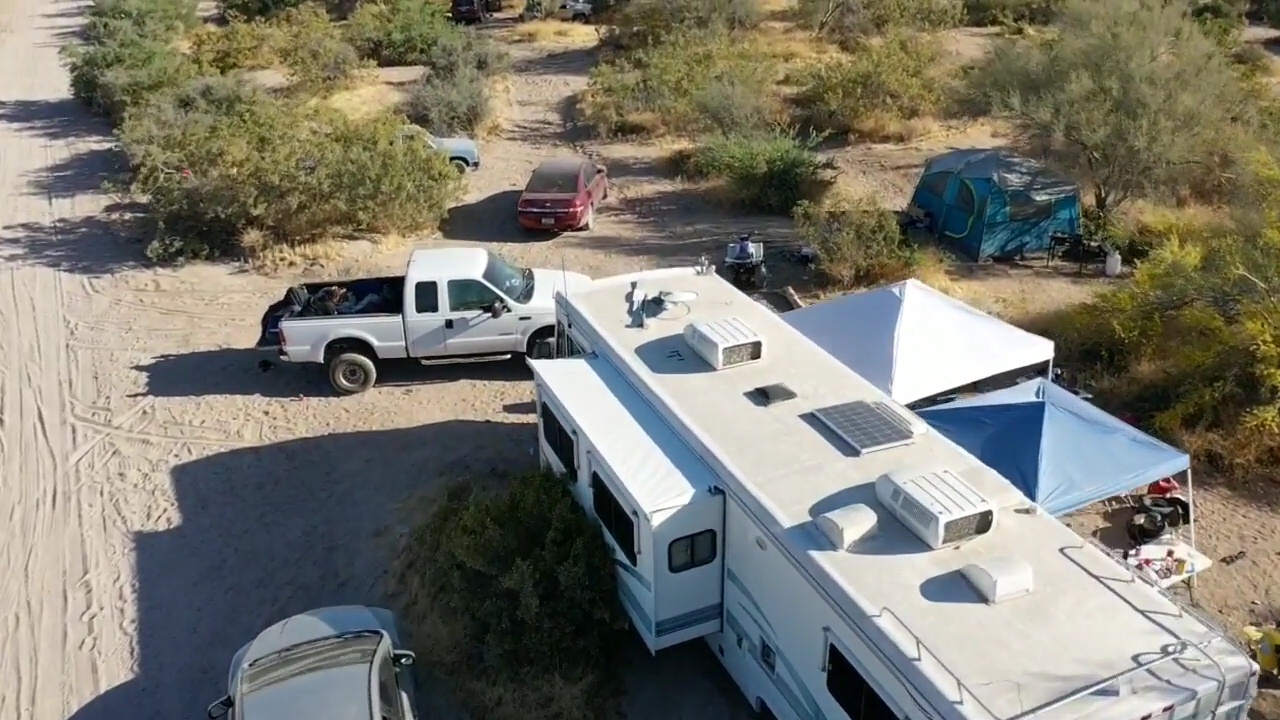araba: (205, 587, 434, 720), (514, 148, 615, 232), (377, 117, 482, 180)
kamyonet: (251, 243, 610, 399)
